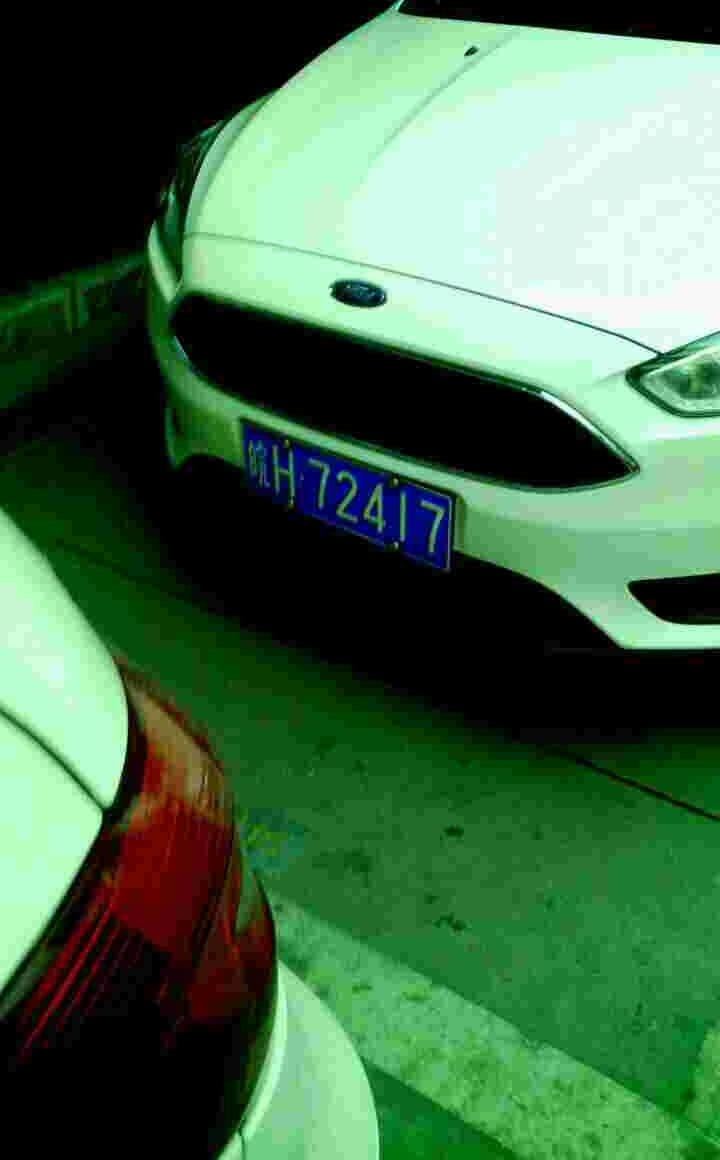license_plate: (233, 413, 459, 569)
